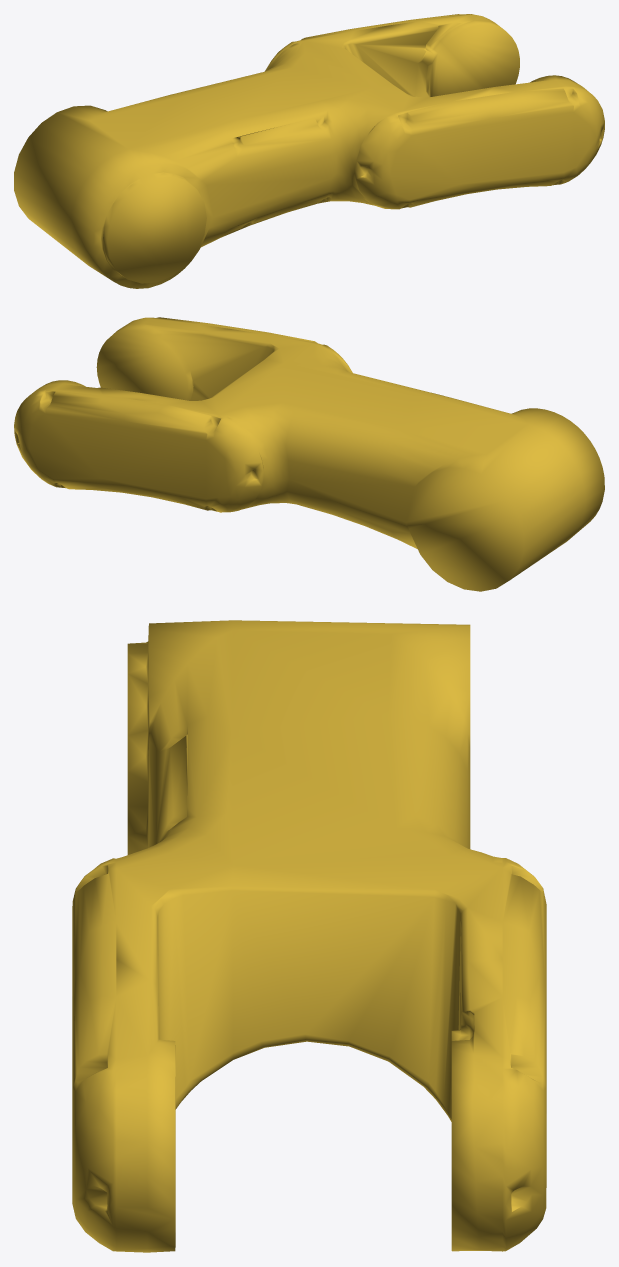
3 views of the same model, one above another, from view 1: azimuth 30°, elevation 25°; view 2: azimuth 150°, elevation 25°; view 3: azimuth 270°, elevation 25° (orthographic). The views are drawn at different scales.
Size of the model in its own units: 557 by 135 by 227.
